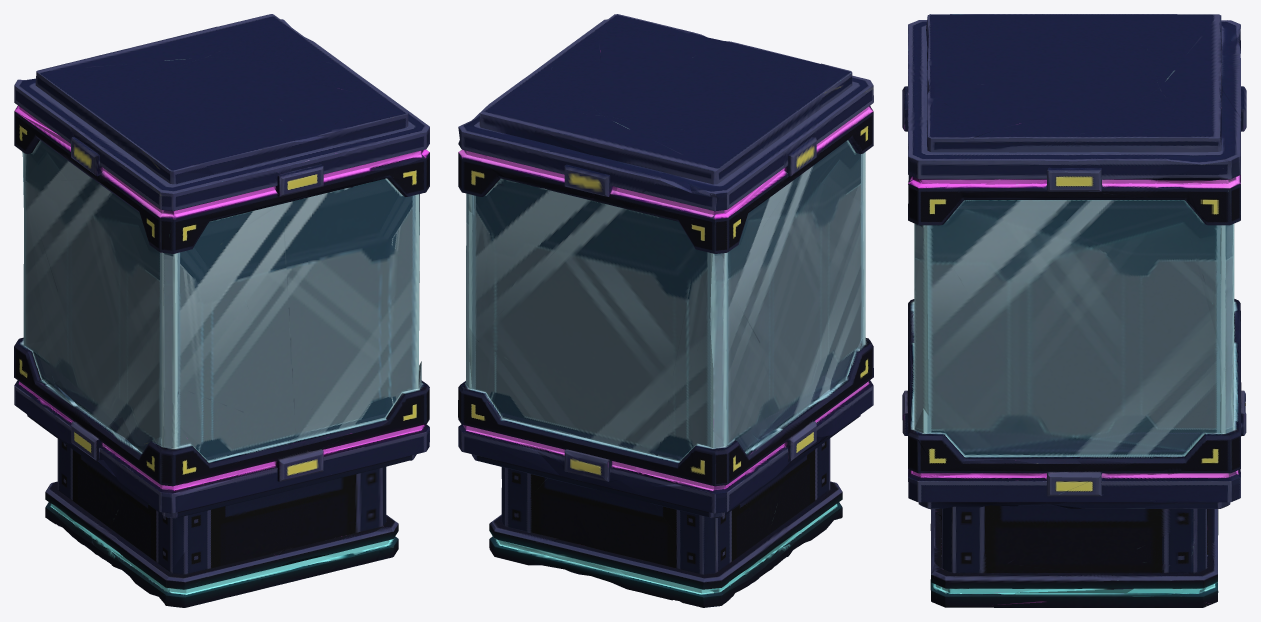
The model's file is cajita-vidrio.glb.
3 renders of one model, left to right at view 1: azimuth 30°, elevation 25°; view 2: azimuth 150°, elevation 25°; view 3: azimuth 270°, elevation 25°, orthographic. The views are drawn at different scales.
Visible parts, largest first — view 1: Mesh_0; view 2: Mesh_0; view 3: Mesh_0.
Part boxes in pixels (box(x1,y1,x2,y2)): Mesh_0: box(14, 14, 429, 607); Mesh_0: box(458, 14, 873, 607); Mesh_0: box(902, 14, 1246, 607).
Bounding box in the file's own units: 1.26 × 1.9 × 1.26.
1 material, 1 textured.
